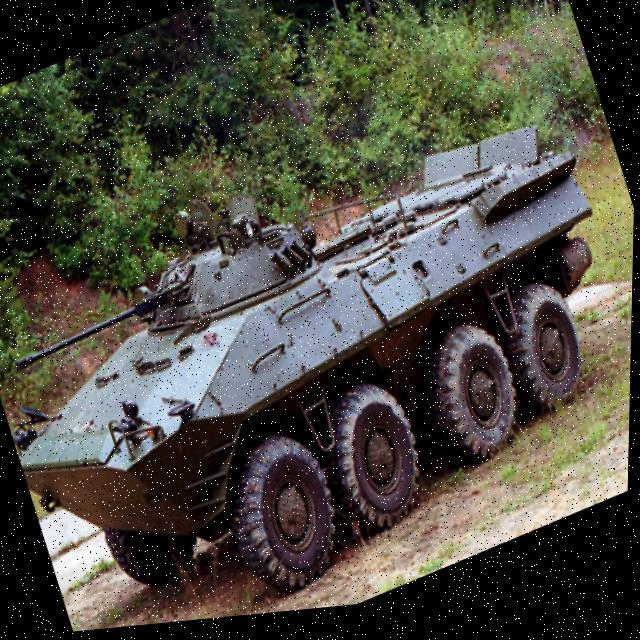MIL_APC: (0, 75, 638, 640)
